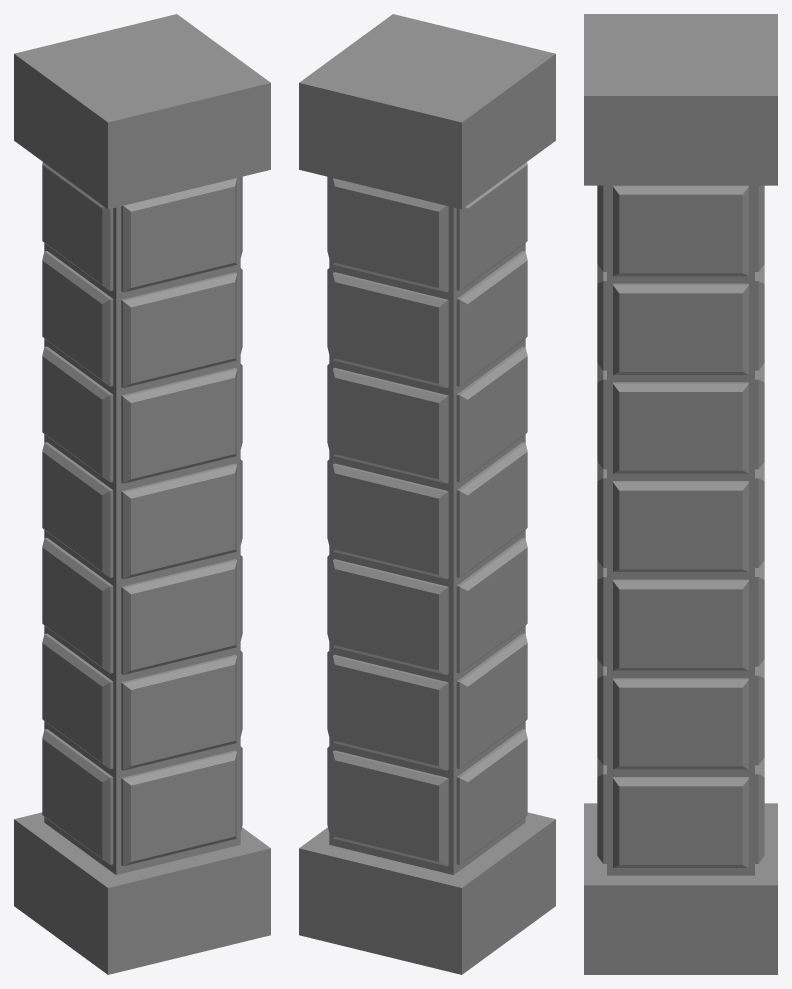
File: BrickPillar.fbx
3 renders of one model, left to right at view 1: azimuth 30°, elevation 25°; view 2: azimuth 150°, elevation 25°; view 3: azimuth 270°, elevation 25°, orthographic. The views are drawn at different scales.
Parts seen in each view (by area): view 1: BrickPillar; view 2: BrickPillar; view 3: BrickPillar.
Boxes of the visible parts, left/top/right/bottom form: BrickPillar: left=14, top=14, right=270, bottom=974; BrickPillar: left=299, top=14, right=555, bottom=974; BrickPillar: left=584, top=14, right=777, bottom=974.
Size of the model in its own units: 40 by 200 by 40.
